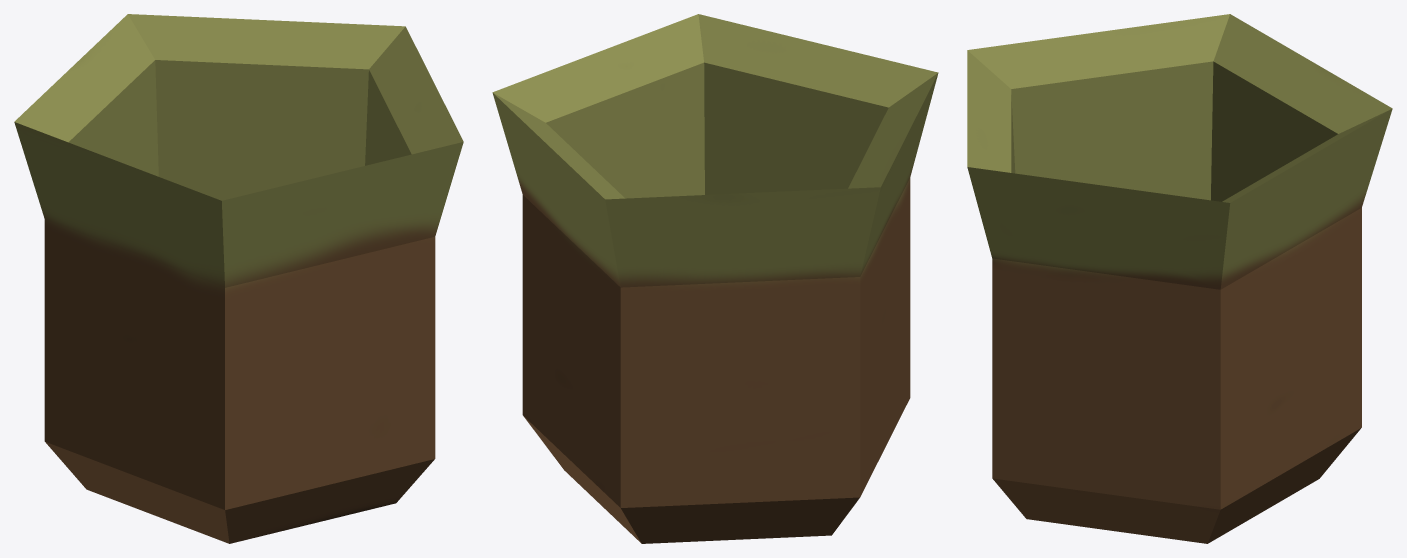
Rendered from Copo_oferenda.fbx.
3 views of the same model, side by side, from view 1: azimuth 30°, elevation 25°; view 2: azimuth 150°, elevation 25°; view 3: azimuth 270°, elevation 25° (orthographic).
Parts seen in each view (by area): view 1: Cylinder; view 2: Cylinder; view 3: Cylinder.
Part boxes in pixels (left/top/right/bottom): Cylinder: left=14, top=14, right=463, bottom=543; Cylinder: left=492, top=14, right=938, bottom=543; Cylinder: left=967, top=14, right=1392, bottom=543.
Size of the model in its own units: 219 by 200 by 208.
1 material, 1 textured.
